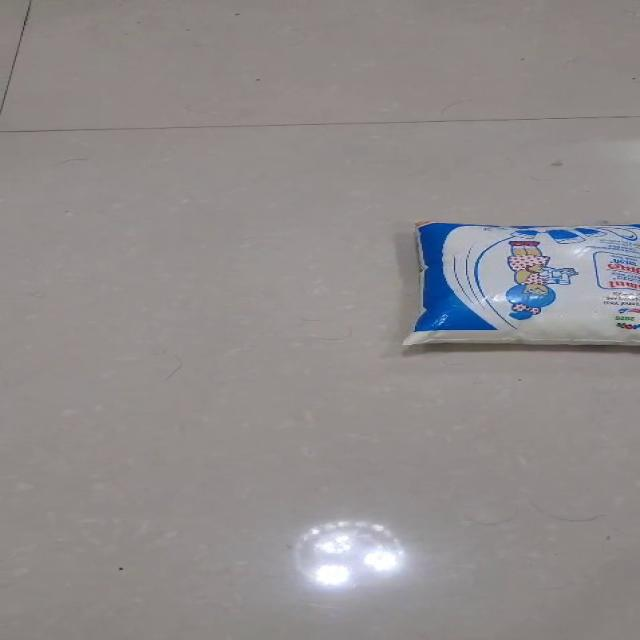plastic: (400, 219, 639, 347)
